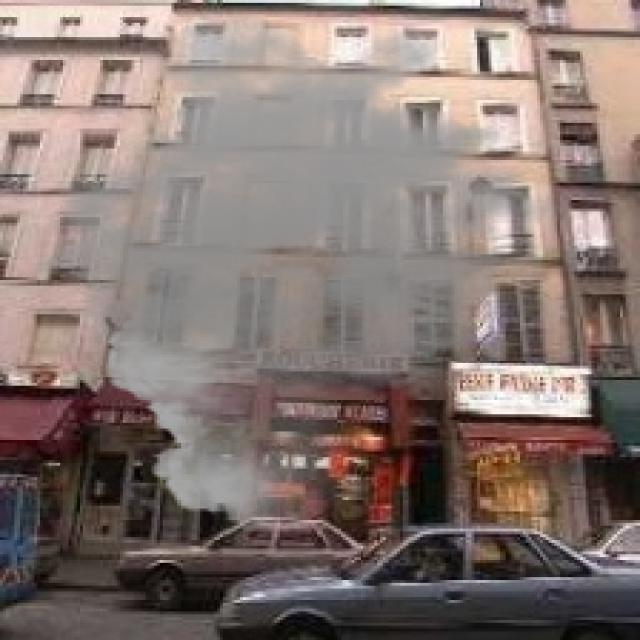Smoke: (34, 11, 592, 540)
